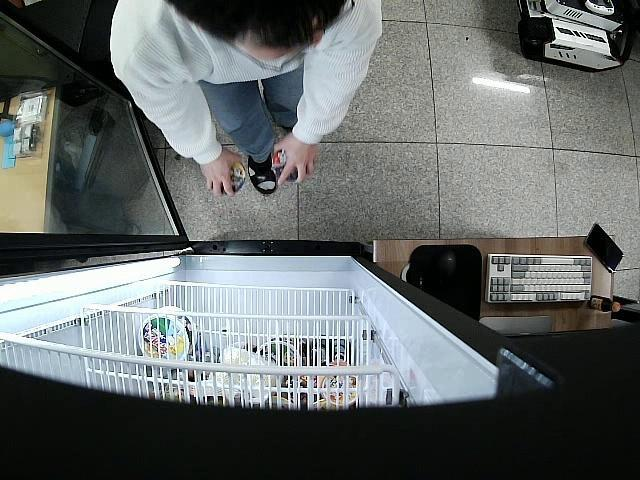08_buldak_S: (270, 145, 306, 184), (218, 159, 248, 192)
